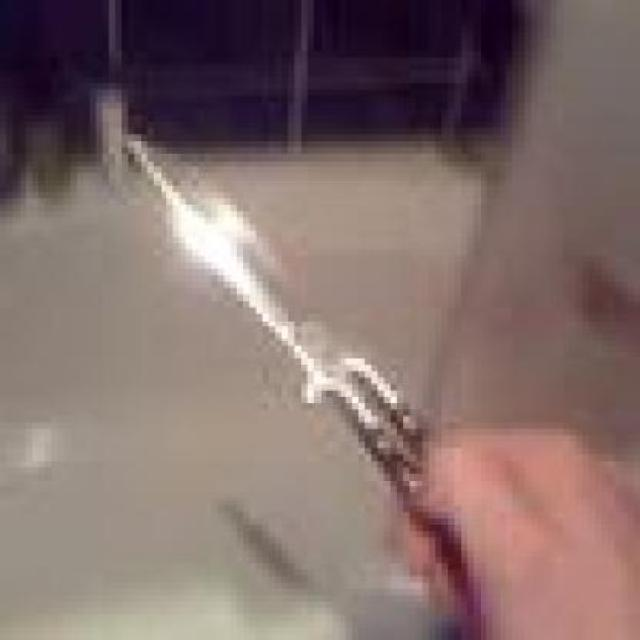knife: (136, 142, 427, 526)
